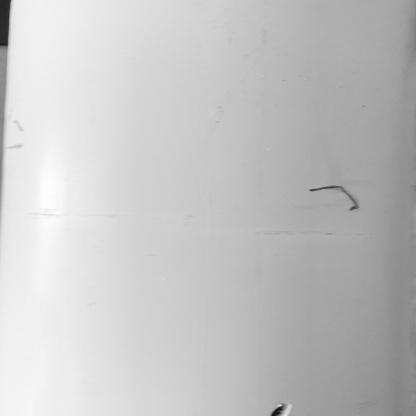fengxi: (310, 175, 364, 215)
